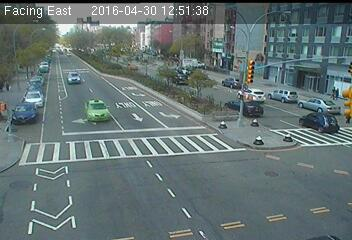neg: (108, 171, 135, 207), (287, 110, 313, 144), (161, 34, 186, 68), (40, 78, 63, 109), (74, 25, 95, 54), (187, 169, 207, 195), (100, 105, 118, 129), (195, 59, 213, 83), (79, 171, 97, 195), (288, 41, 306, 64), (184, 119, 200, 139), (253, 74, 267, 93), (116, 73, 130, 91), (252, 134, 265, 151), (241, 34, 252, 50)
